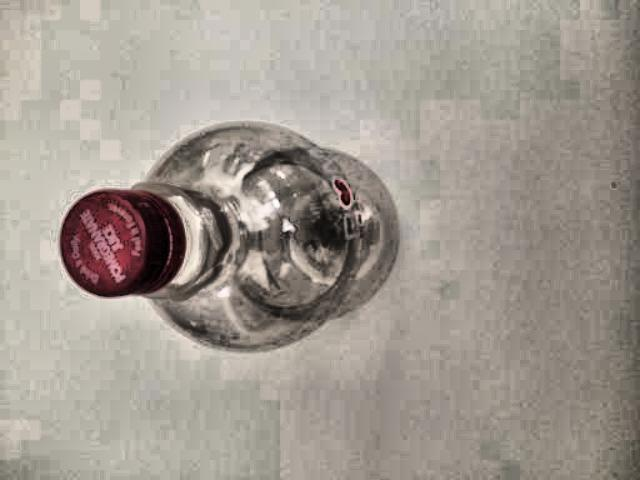Bottles: (52, 115, 406, 364)
